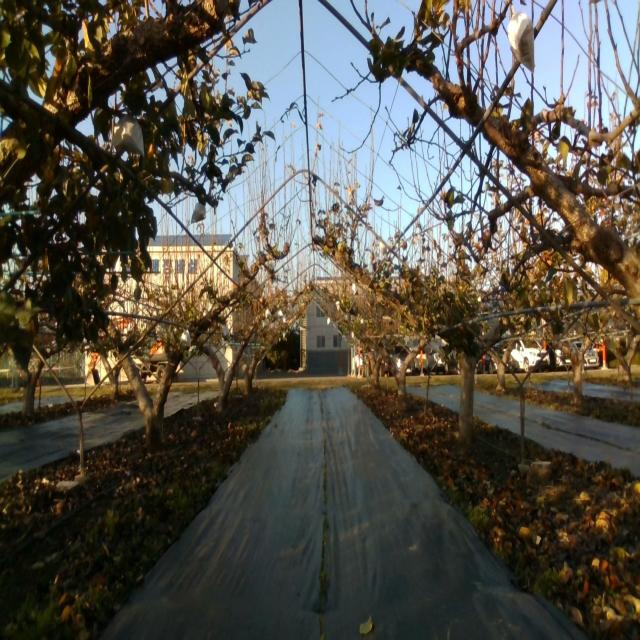pearbags: (506, 5, 536, 74), (110, 112, 145, 160), (191, 203, 207, 225), (179, 329, 192, 348)
